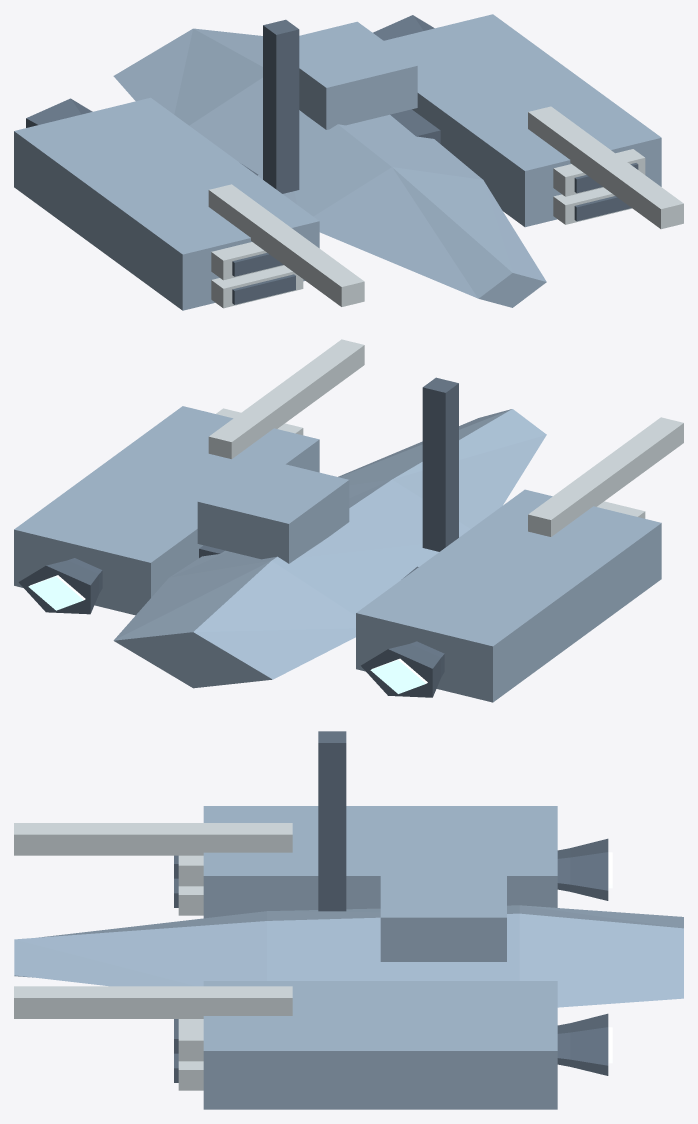
The picture shows the model from 3 angles, top to bottom: view 1: azimuth 30°, elevation 25°; view 2: azimuth 150°, elevation 25°; view 3: azimuth 270°, elevation 25°; orthographic projection. The views are drawn at different scales.
Bounding box in the file's own units: 9.99 × 4.26 × 11.55.
